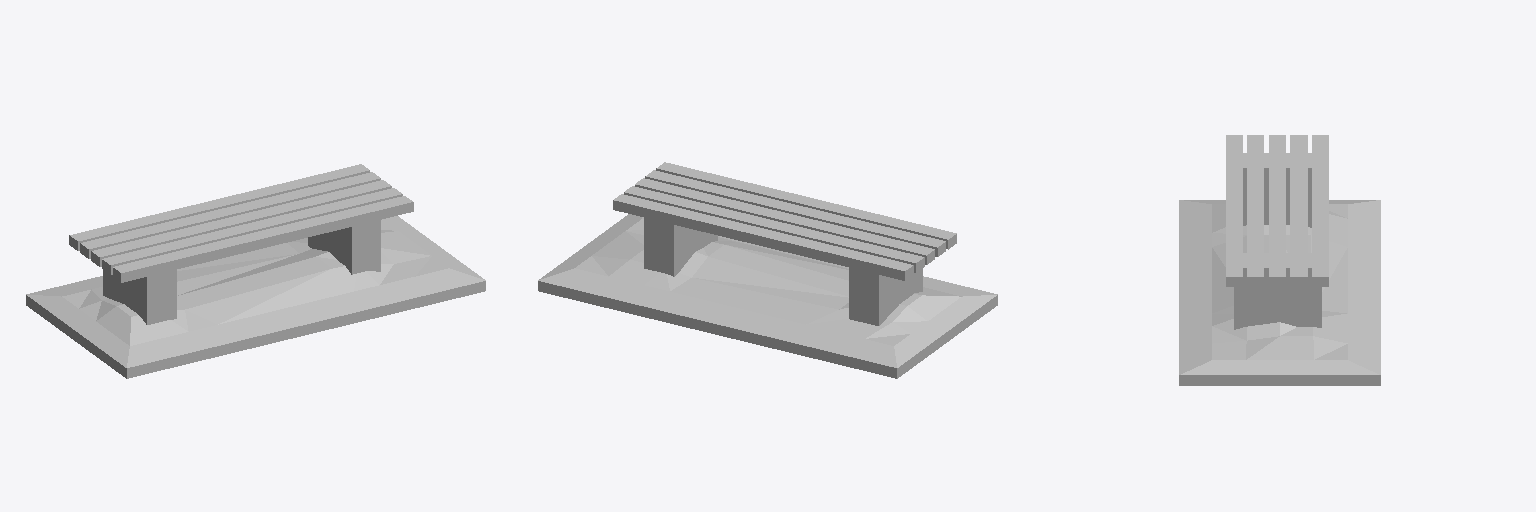
File: snow.obj
The picture shows the model from 3 angles: view 1: azimuth 30°, elevation 25°; view 2: azimuth 150°, elevation 25°; view 3: azimuth 270°, elevation 25°; orthographic projection.
Visible parts, largest first — view 1: Plane001; view 2: Plane001; view 3: Plane001.
Part boxes in pixels (x1,y1,x2,y2): Plane001: (26, 164, 485, 378); Plane001: (538, 162, 997, 378); Plane001: (1179, 135, 1380, 385).
Size of the model in its own units: 147 by 32.88 by 71.39.